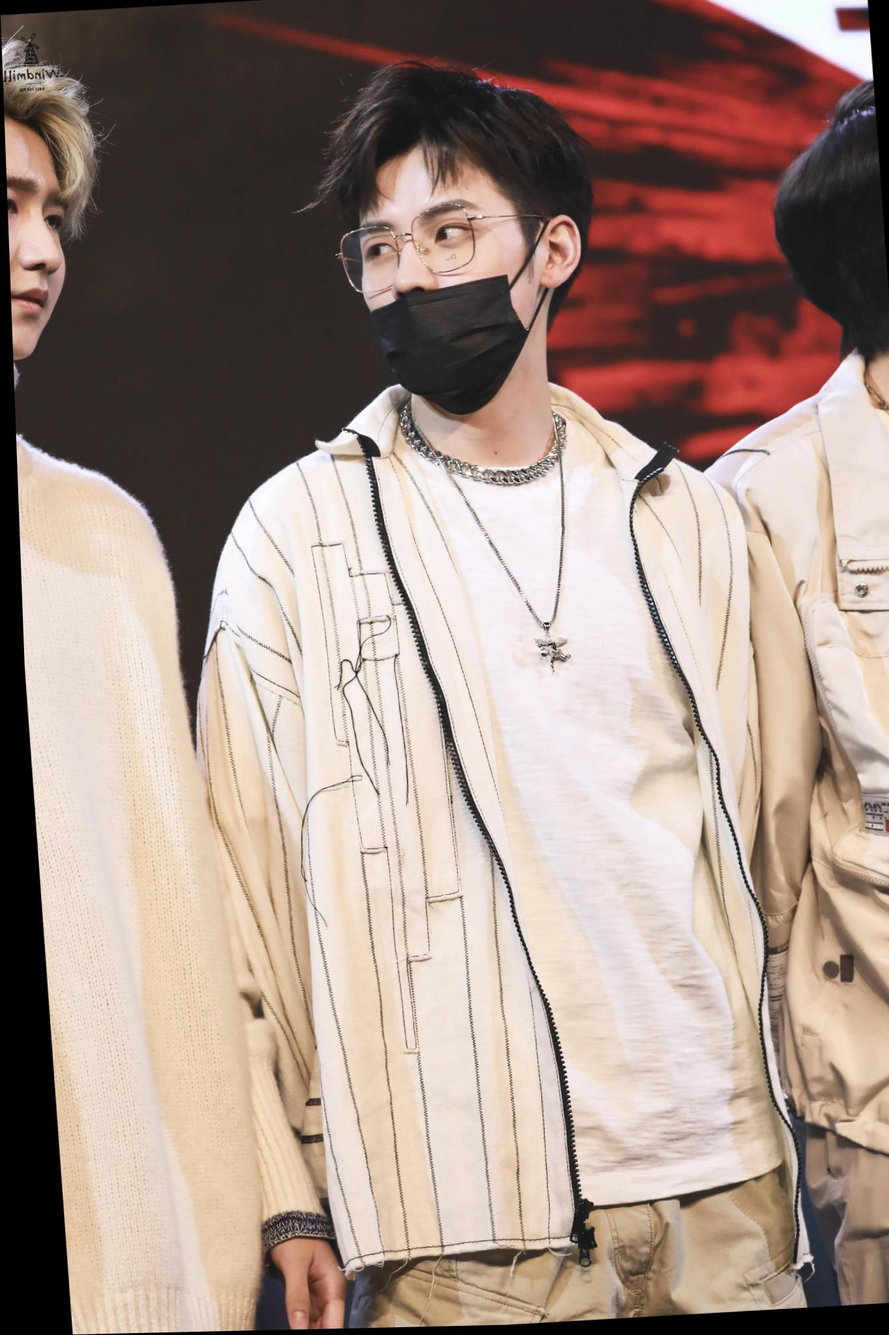NONE: (5, 160, 74, 363)
WRONG: (355, 190, 529, 412)
